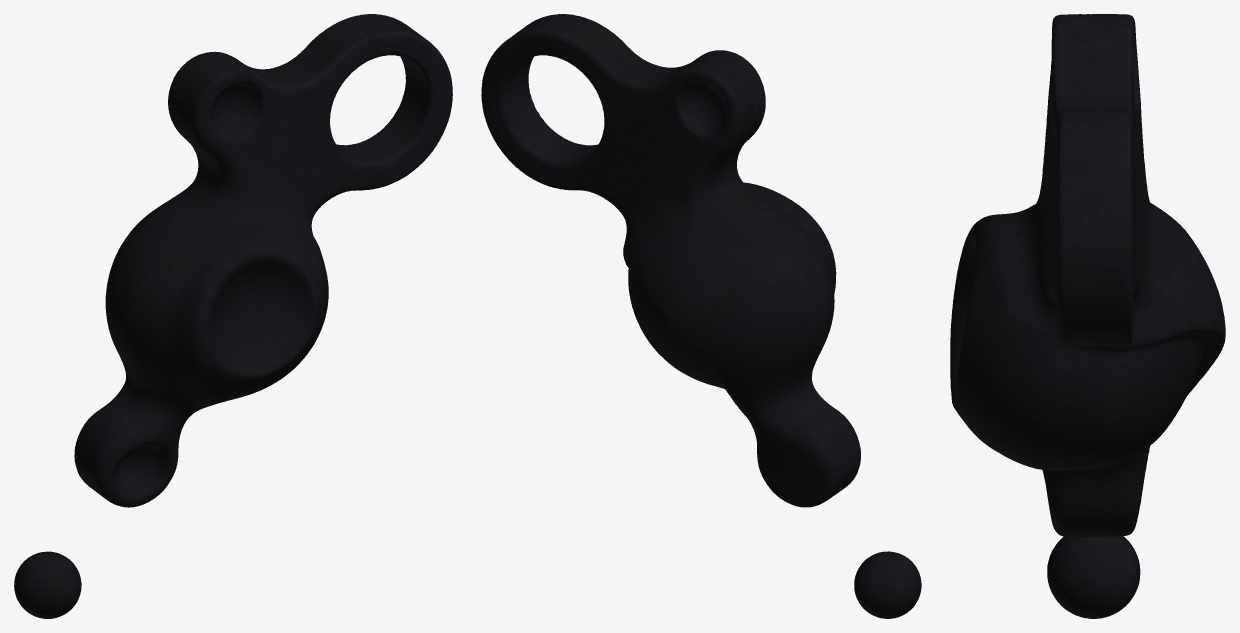
File: 006_PurpleAR.glb
3 renders of one model, left to right at view 1: azimuth 30°, elevation 25°; view 2: azimuth 150°, elevation 25°; view 3: azimuth 270°, elevation 25°, orthographic. The views are drawn at different scales.
Size of the model in its own units: 0.5306 by 0.6152 by 0.2161.
Materials: 1 (1 with a texture image).
